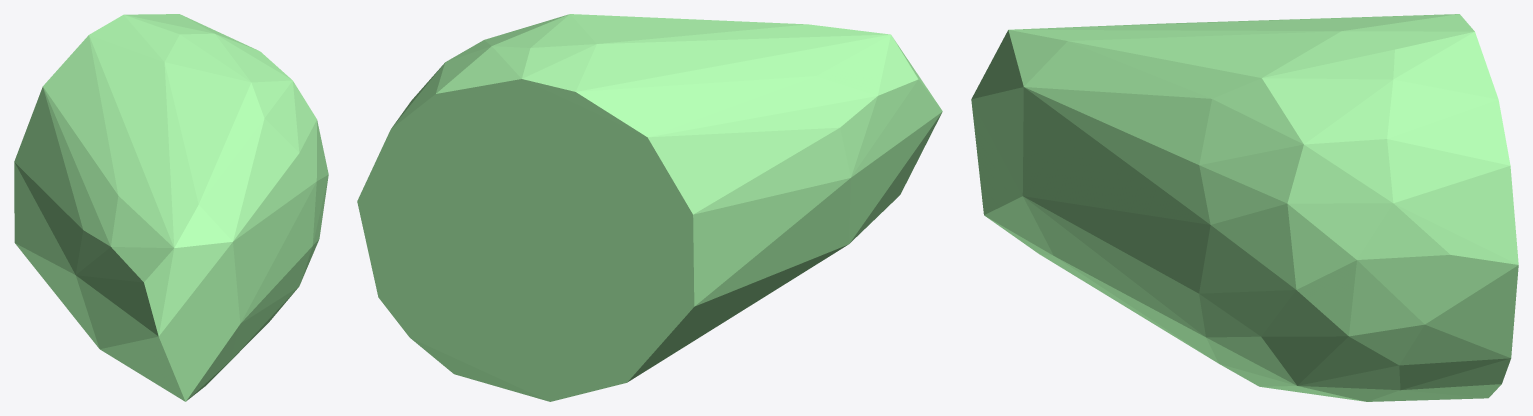
File: Panda_link5_respondable_coll_7.dae
3 renders of one model, left to right at view 1: azimuth 30°, elevation 25°; view 2: azimuth 150°, elevation 25°; view 3: azimuth 270°, elevation 25°, orthographic. The views are drawn at different scales.
Visible parts, largest first — view 1: Node_0x7f9e8a2a2160; view 2: Node_0x7f9e8a2a2160; view 3: Node_0x7f9e8a2a2160.
Part boxes in pixels (x1,y1,x2,y2): Node_0x7f9e8a2a2160: (14,14,328,401); Node_0x7f9e8a2a2160: (357,14,942,401); Node_0x7f9e8a2a2160: (971,14,1518,401).
Size of the model in its own units: 0.1276 by 0.1107 by 0.1563.
